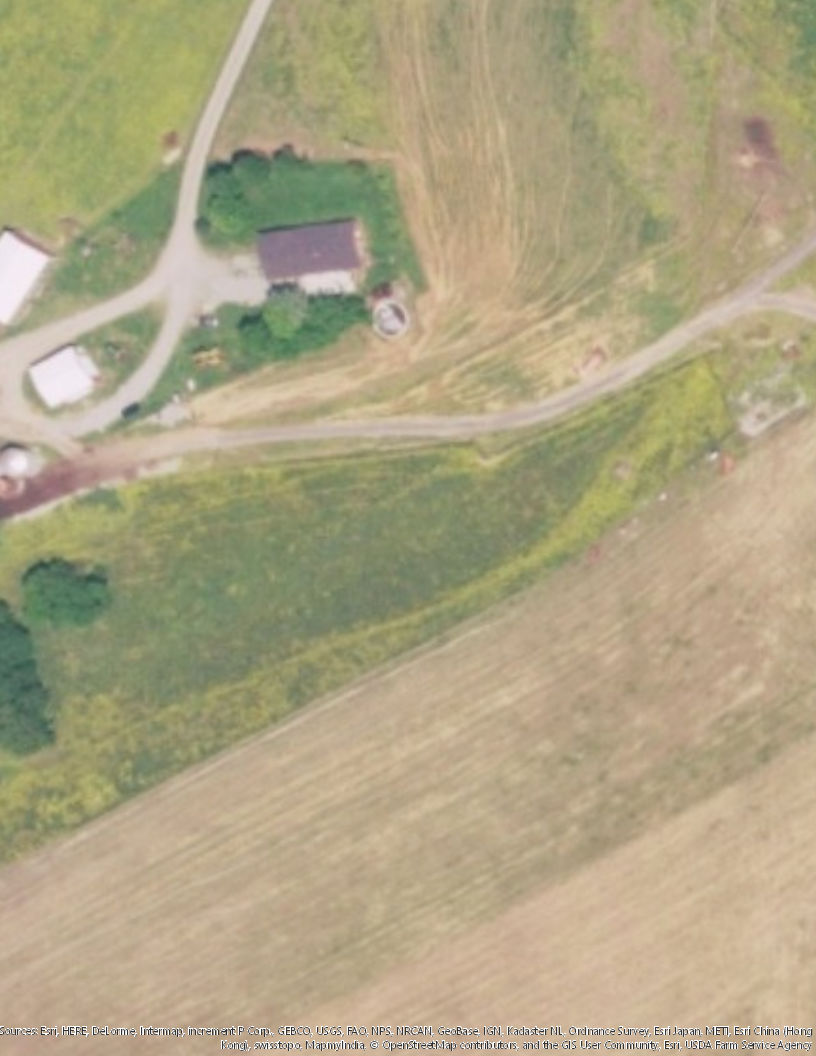cafo: (1, 226, 52, 330)
